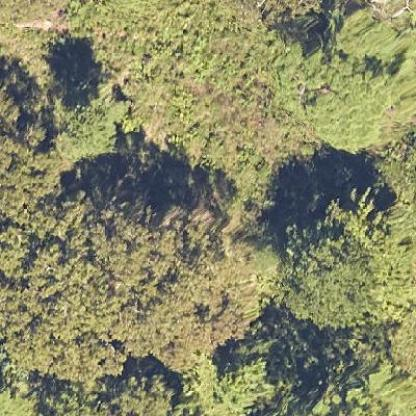tree-top: (108, 197, 286, 365), (284, 9, 415, 153), (276, 197, 402, 332), (0, 128, 76, 241), (307, 344, 411, 415), (52, 86, 123, 164), (102, 363, 176, 415)
